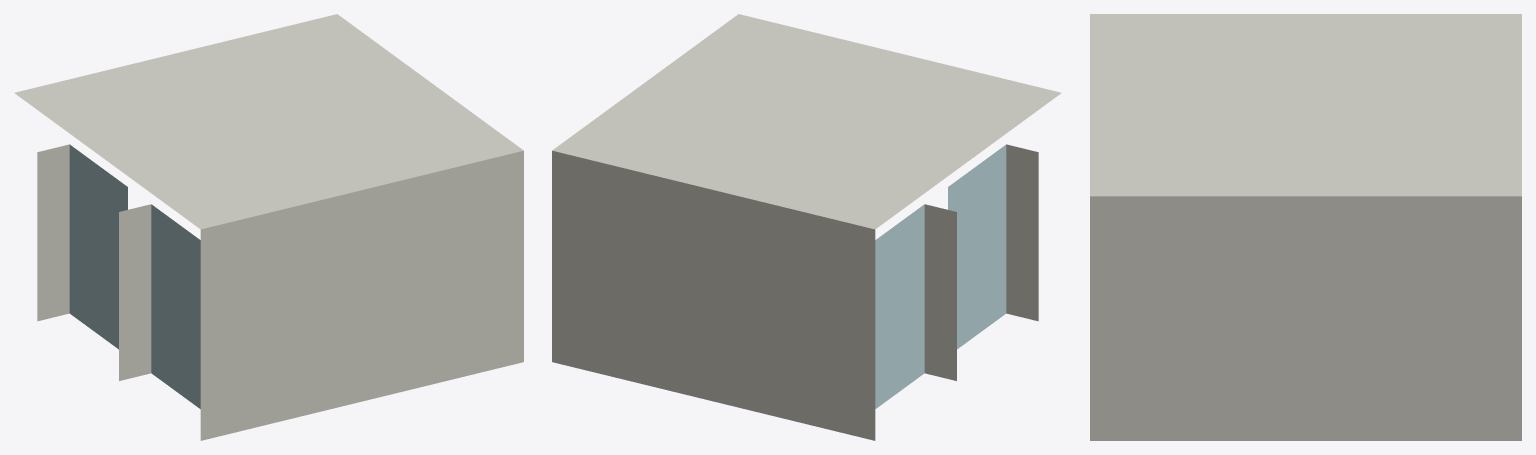
The model's file is modularBuildings_028.glb.
3 renders of one model, left to right at view 1: azimuth 30°, elevation 25°; view 2: azimuth 150°, elevation 25°; view 3: azimuth 270°, elevation 25°, orthographic. The views are drawn at different scales.
Visible parts, largest first — view 1: Mesh1 Group1 Model; view 2: Mesh1 Group1 Model; view 3: Mesh1 Group1 Model.
Part boxes in pixels (box(x1,y1,x2,y2)): Mesh1 Group1 Model: box(14, 14, 523, 440); Mesh1 Group1 Model: box(552, 14, 1061, 440); Mesh1 Group1 Model: box(1090, 14, 1521, 440).
Size of the model in its own units: 1 by 0.625 by 1.
